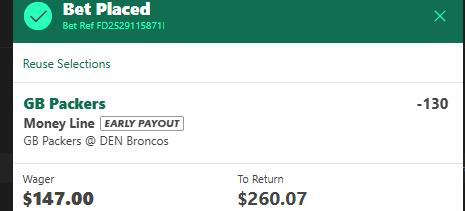game: (22, 134, 170, 149)
odds: (416, 96, 450, 111)
payout: (236, 189, 308, 209)
wager: (21, 189, 95, 207)
